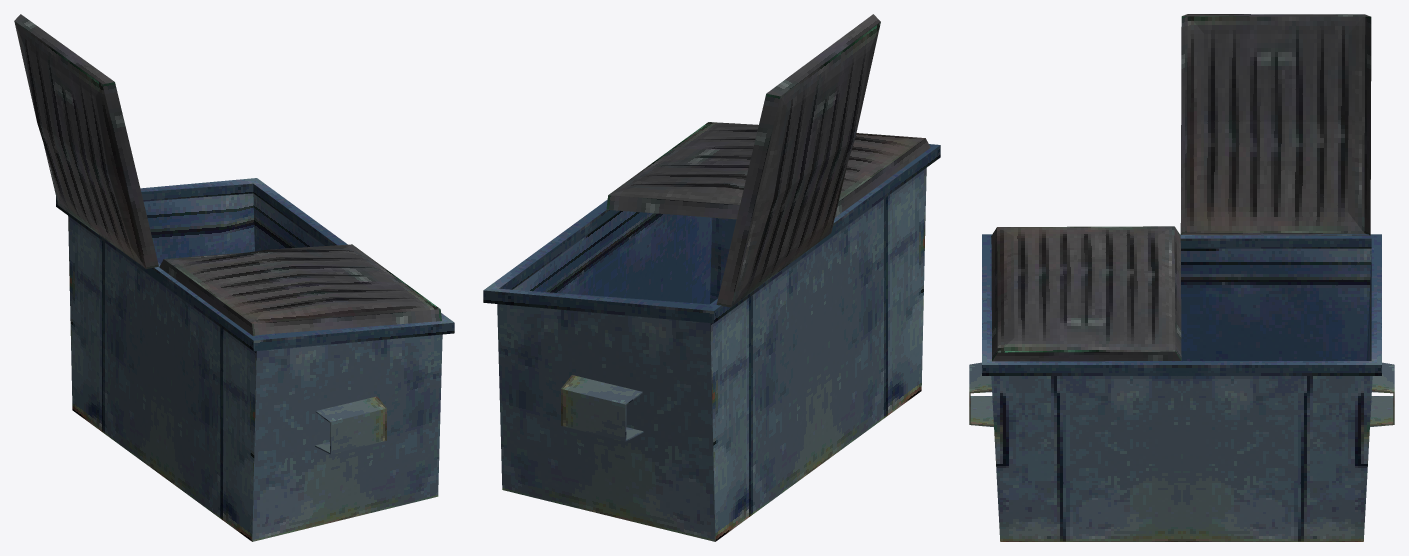
File: dumpster_diagonal_empty_open_blue.glb
The picture shows the model from 3 angles, left to right: view 1: azimuth 30°, elevation 25°; view 2: azimuth 150°, elevation 25°; view 3: azimuth 270°, elevation 25°; orthographic projection. The views are drawn at different scales.
Visible parts, largest first — view 1: dumpster_diagonal_empty_open_blue; view 2: dumpster_diagonal_empty_open_blue; view 3: dumpster_diagonal_empty_open_blue.
Part boxes in pixels (bbox=[...]): dumpster_diagonal_empty_open_blue: bbox=[14, 14, 454, 541]; dumpster_diagonal_empty_open_blue: bbox=[483, 14, 940, 541]; dumpster_diagonal_empty_open_blue: bbox=[969, 14, 1394, 541].
Bounding box in the file's own units: 2.53 × 3.91 × 3.67.
Materials: 1 (1 with a texture image).
